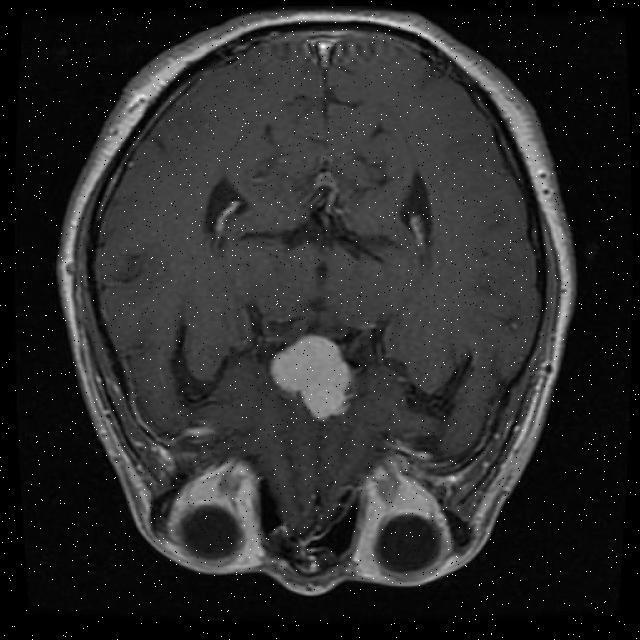Pituitary: (270, 336, 350, 420)
